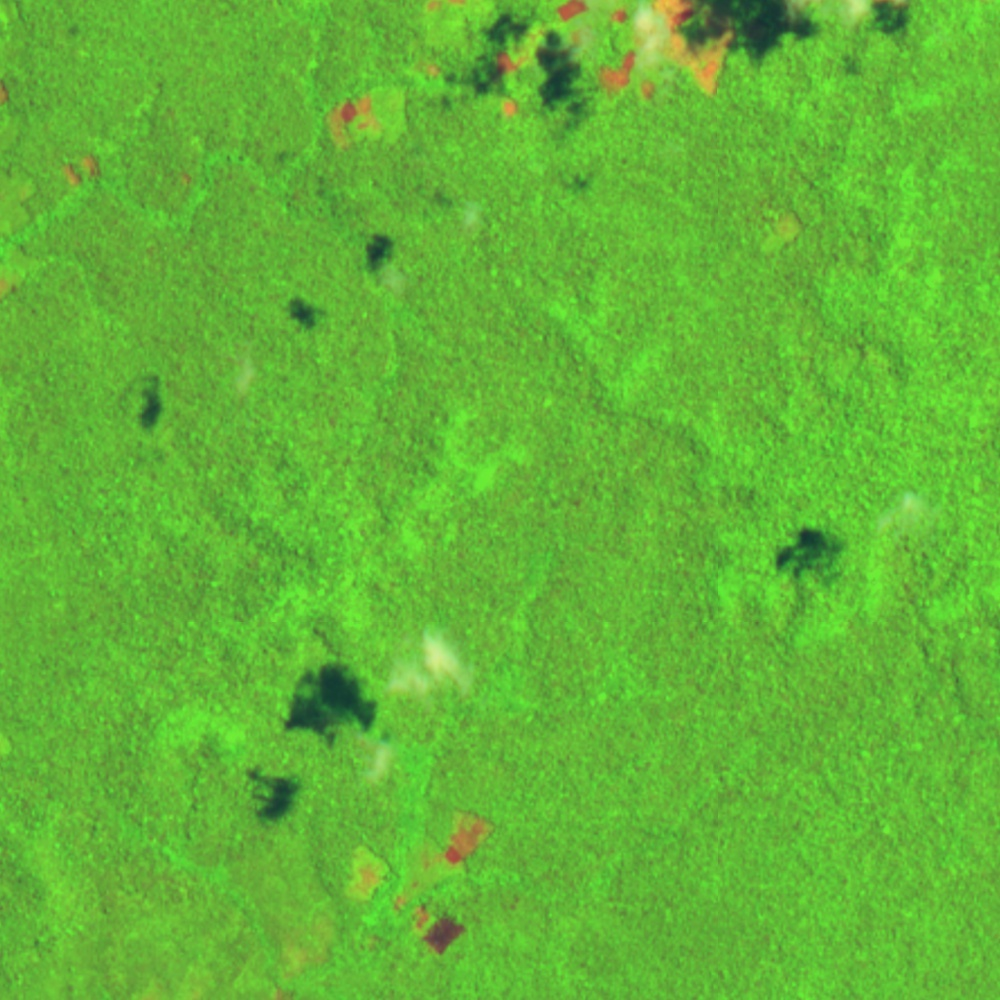legal: (490, 1, 739, 123), (331, 805, 501, 958), (312, 59, 445, 156), (258, 913, 337, 1000), (761, 208, 808, 251), (54, 153, 105, 184), (418, 1, 465, 29), (1, 81, 10, 111)
